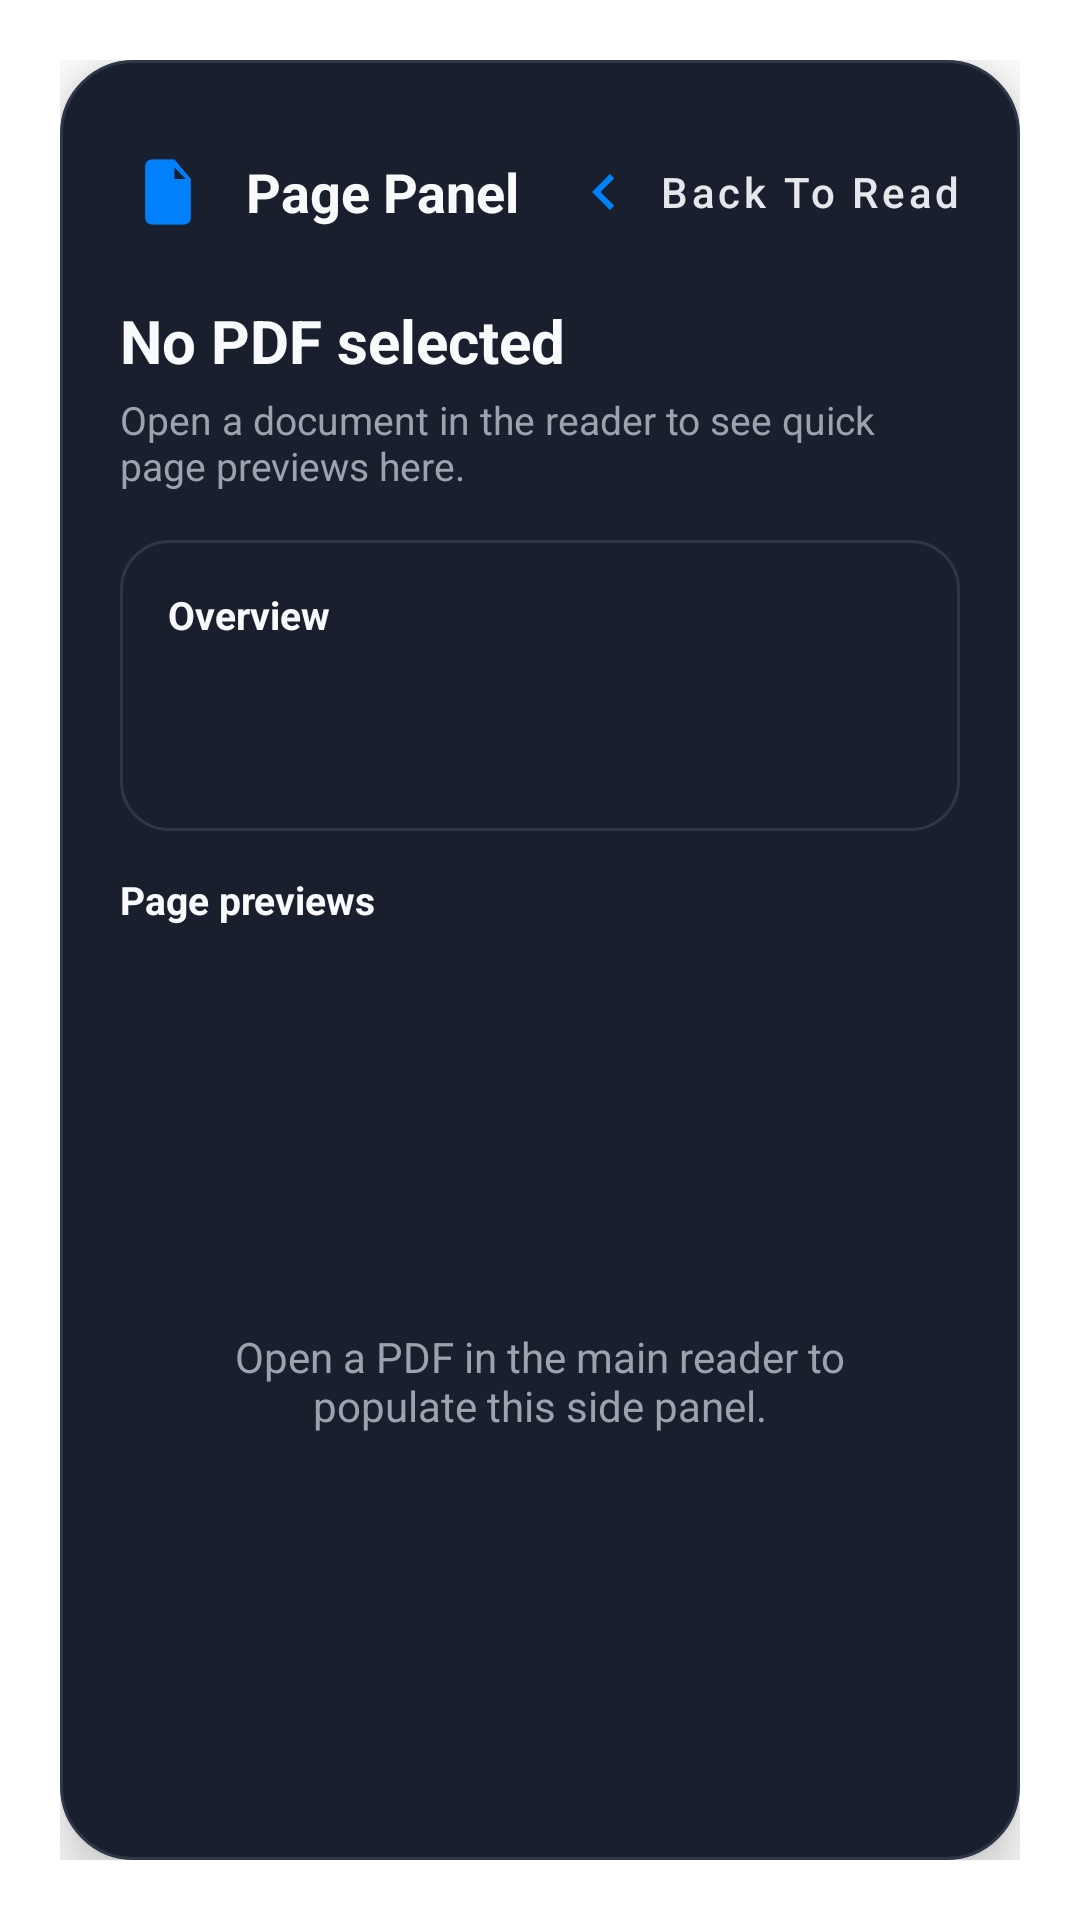

Icons on this 1080px×1920px Android screen, each with the point to tap as point (x, y):
file text: point (168, 192)
